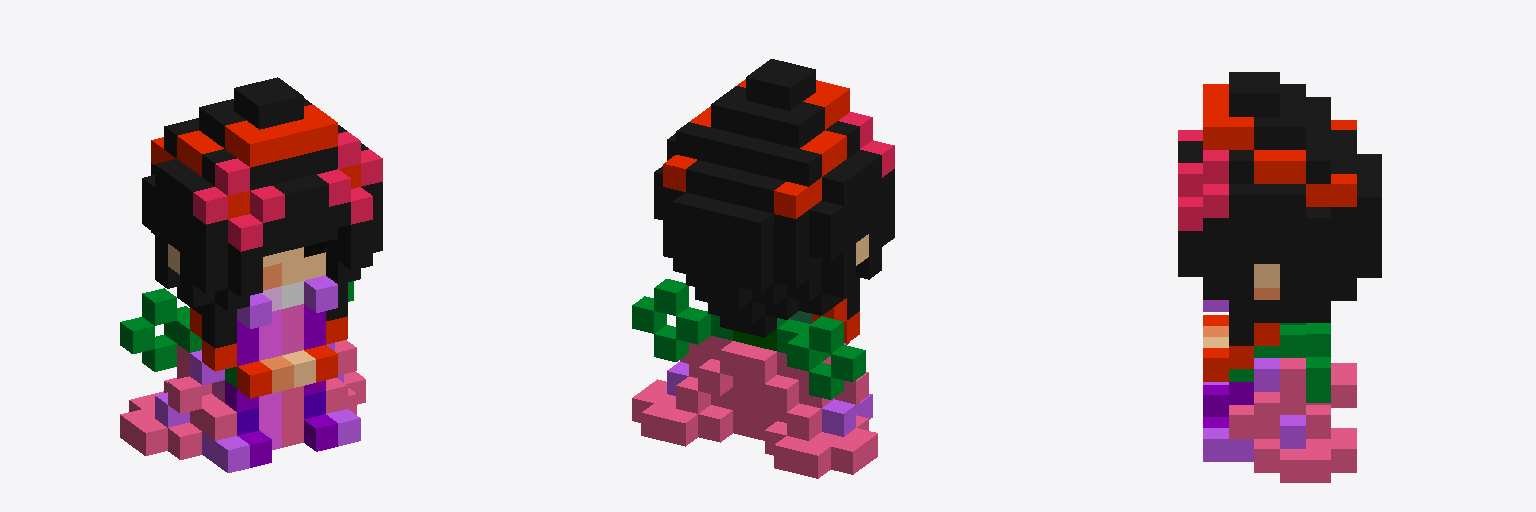
3 renders of one model, left to right at view 1: azimuth 30°, elevation 25°; view 2: azimuth 150°, elevation 25°; view 3: azimuth 270°, elevation 25°, orthographic.
Visible parts, largest first — view 1: Model; view 2: Model; view 3: Model.
Part boxes in pixels (x1,y1,x2,y2): Model: (120,77,382,472); Model: (632,59,894,478); Model: (1178,72,1381,482).
Bounding box in the file's own units: 1 × 1.5 × 0.8.
Materials: 1 (1 with a texture image).